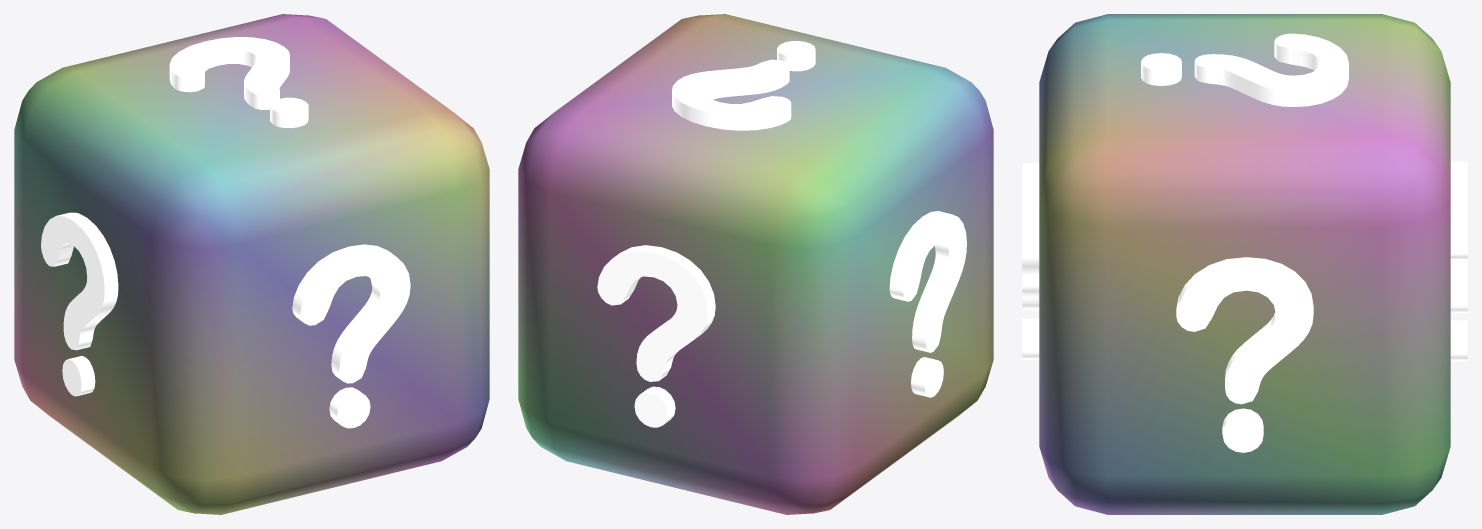
The model's file is itembox.glb.
3 views of the same model, side by side, from view 1: azimuth 30°, elevation 25°; view 2: azimuth 150°, elevation 25°; view 3: azimuth 270°, elevation 25° (orthographic). The views are drawn at different scales.
Parts seen in each view (by area): view 1: ItemBoxMesh; view 2: ItemBoxMesh; view 3: ItemBoxMesh.
Boxes of the visible parts, box(x1,y1,x2,y2) form: ItemBoxMesh: box(14, 14, 489, 514); ItemBoxMesh: box(518, 14, 993, 514); ItemBoxMesh: box(1022, 14, 1467, 514).
Bounding box in the file's own units: 1.3 × 1.3 × 1.3.
